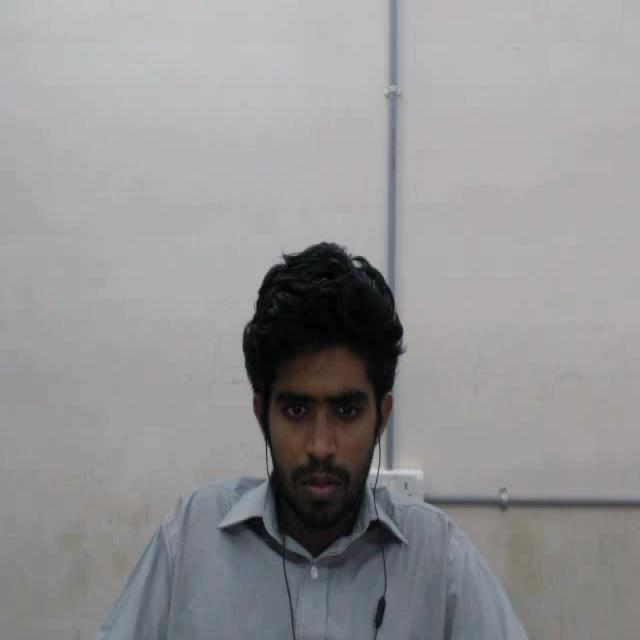Engaged: (220, 202, 445, 640)
